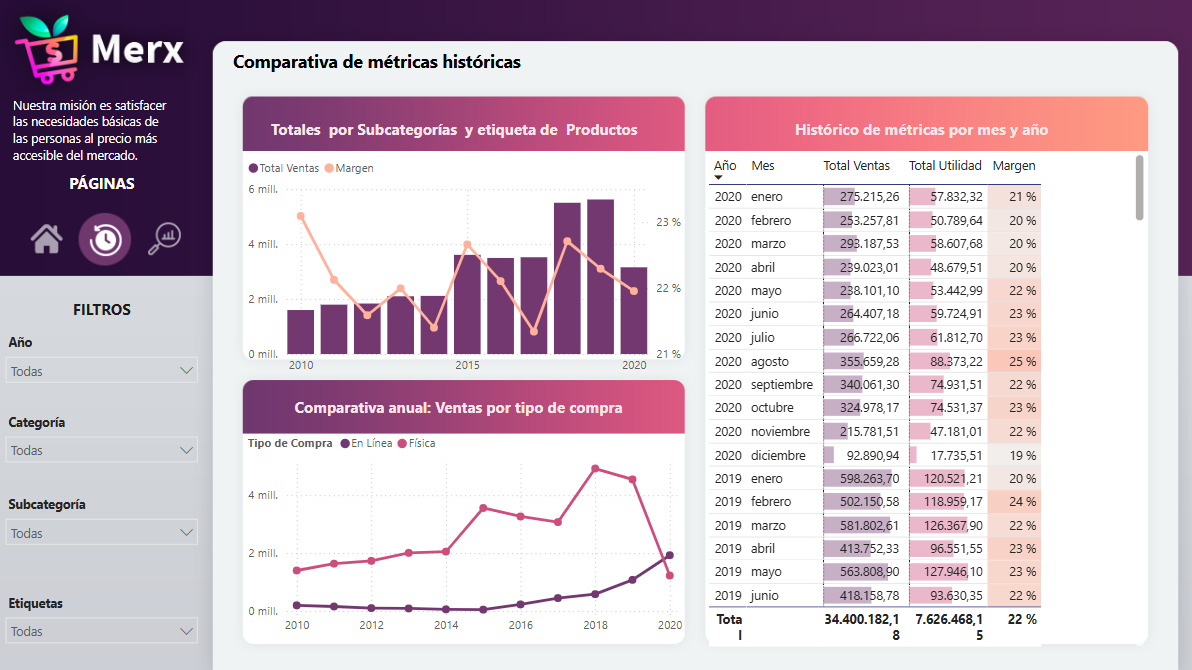

Layout of this report page (visuals, bound fields, positions):
{"tool":"powerbi","page":{"name":"2","canvas":[1280,720],"ordinal":1},"visuals":[{"type":"slicer","fields":{"Values":["Transacciones.Fecha.Variación.Jerarquía de fechas.Año"]},"box":[0,353.1,225,89.1],"z":0},{"type":"slicer","fields":{"Values":["Transacciones.Categoría"]},"box":[0,439.1,225,87.5],"z":1000},{"type":"slicer","fields":{"Values":["Transacciones.Subcategoría"]},"box":[0,526.6,225,89.1],"z":2000},{"type":"slicer","fields":{"Values":["Transacciones.Etiquetas"]},"box":[0,631.2,225,89.1],"z":3000},{"type":"textbox","box":[0,0,225,100],"z":4000},{"type":"textbox","box":[12.5,100,185.9,82.8],"z":5000},{"type":"textbox","box":[0,182.9,225.6,35.4],"z":6000},{"type":"textbox","box":[0,317.1,225.6,35.4],"z":7000},{"type":"textbox","box":[247.2,50,872.2,50],"z":8000},{"type":"actionButton","box":[89.5,239.1,55.3,43.9],"z":9000},{"type":"actionButton","box":[144.8,218,53.7,65.1],"z":10000},{"type":"actionButton","box":[13,218,76.4,65.1],"z":11000},{"type":"lineStackedColumnComboChart","fields":{"Category":["Transacciones.Fecha.Variación.Jerarquía de fechas.Año","Transacciones.Fecha.Variación.Jerarquía de fechas.Trimestre","Transacciones.Fecha.Variación.Jerarquía de fechas.Mes","Transacciones.Fecha.Variación.Jerarquía de fechas.Día"],"Y":["Transacciones.Total Ventas"],"Y2":["Transacciones.Margen"]},"box":[262.7,162.5,472.4,247.6],"z":12000},{"type":"textbox","box":[262.7,124.7,449.8,37.8],"z":13000},{"type":"textbox","box":[302.4,421.4,381.7,34],"z":14000},{"type":"textbox","box":[795.6,124.7,381.7,34],"z":15000},{"type":"lineChart","fields":{"Category":["Transacciones.Fecha.Variación.Jerarquía de fechas.Año","Transacciones.Fecha.Variación.Jerarquía de fechas.Trimestre","Transacciones.Fecha.Variación.Jerarquía de fechas.Mes","Transacciones.Fecha.Variación.Jerarquía de fechas.Día"],"Y":["Transacciones.Total Ventas"],"Series":["Transacciones.Tipo de Compra"]},"box":[262.7,455.4,472.4,230.6],"z":16000},{"type":"tableEx","fields":{"Values":["Transacciones.Fecha.Variación.Jerarquía de fechas.Año","Transacciones.Fecha.Variación.Jerarquía de fechas.Mes","Transacciones.Total Ventas","Transacciones.Total Utilidad","Transacciones.Margen"]},"box":[754,162.5,474.3,534.8],"z":17000}]}

Visuals, with their boxes in screenshot pixels (x1, y1, x2, y2), scaled from the page's 1280x720 canvas onto the 1192x670 screenshot:
slicer - Transacciones.Fecha.Variación.Jerarquía de fechas.Año: x1=0 y1=329 x2=210 y2=411
slicer - Transacciones.Categoría: x1=0 y1=409 x2=210 y2=490
slicer - Transacciones.Subcategoría: x1=0 y1=490 x2=210 y2=573
slicer - Transacciones.Etiquetas: x1=0 y1=587 x2=210 y2=669
textbox: x1=0 y1=0 x2=210 y2=93
textbox: x1=12 y1=93 x2=185 y2=170
textbox: x1=0 y1=170 x2=210 y2=203
textbox: x1=0 y1=295 x2=210 y2=328
textbox: x1=230 y1=47 x2=1042 y2=93
actionButton: x1=83 y1=222 x2=135 y2=263
actionButton: x1=135 y1=203 x2=185 y2=263
actionButton: x1=12 y1=203 x2=83 y2=263
lineStackedColumnComboChart - Transacciones.Fecha.Variación.Jerarquía de fechas.Año x Transacciones.Fecha.Variación.Jerarquía de fechas.Trimestre: x1=245 y1=151 x2=685 y2=382
textbox: x1=245 y1=116 x2=664 y2=151
textbox: x1=282 y1=392 x2=637 y2=424
textbox: x1=741 y1=116 x2=1096 y2=148
lineChart - Transacciones.Fecha.Variación.Jerarquía de fechas.Año x Transacciones.Fecha.Variación.Jerarquía de fechas.Trimestre: x1=245 y1=424 x2=685 y2=638
tableEx - Transacciones.Fecha.Variación.Jerarquía de fechas.Año x Transacciones.Fecha.Variación.Jerarquía de fechas.Mes: x1=702 y1=151 x2=1144 y2=649
